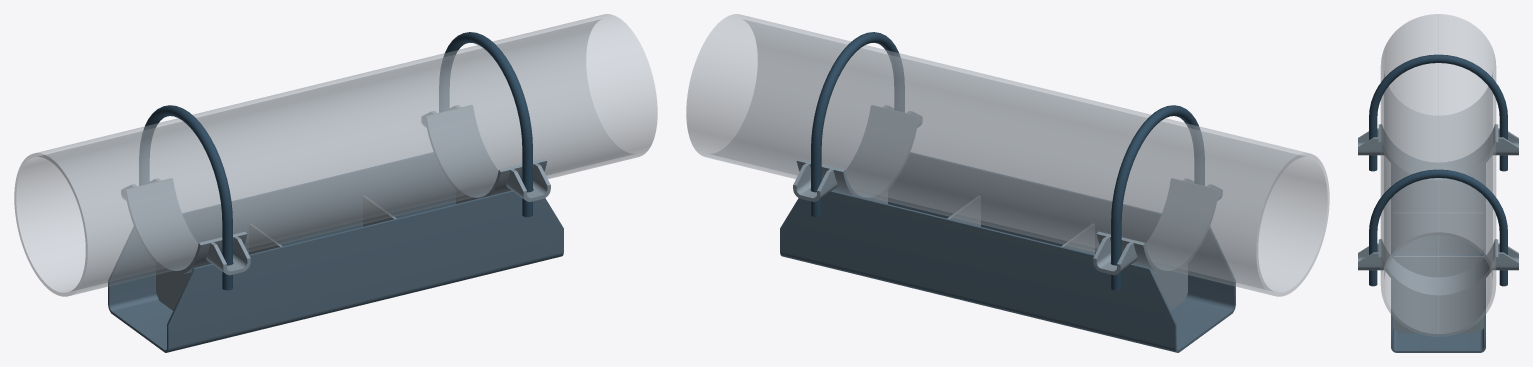
File: TS-734.00.00.02-opora-dn219-L680.glb
3 views of the same model, side by side, from view 1: azimuth 30°, elevation 25°; view 2: azimuth 150°, elevation 25°; view 3: azimuth 270°, elevation 25° (orthographic). The views are drawn at different scales.
Parts seen in each view (by area): view 1: truba, skoba_0, podushka_5, podushka_6, homut_0, homut_1, ushko_8, ushko_10, rebro4_1, rebro5_3, rebro5_4; view 2: truba, skoba_0, podushka_5, podushka_6, homut_0, homut_1, ushko_7, ushko_9, rebro4_1, rebro5_3, rebro5_4; view 3: truba, rebro5_3, rebro4_2, rebro4_1, skoba_0, podushka_6, homut_1, homut_0, podushka_5, rebro5_4, ushko_7, ushko_8 (+2 smaller).
Boxes of the visible parts, bbox=[...] form: truba: bbox=[14, 14, 657, 296]; skoba_0: bbox=[108, 152, 563, 352]; podushka_5: bbox=[125, 178, 247, 274]; podushka_6: bbox=[425, 105, 547, 200]; homut_0: bbox=[139, 105, 232, 290]; homut_1: bbox=[439, 32, 532, 217]; ushko_8: bbox=[206, 236, 250, 275]; ushko_10: bbox=[506, 163, 550, 201]; rebro4_1: bbox=[156, 264, 191, 310]; rebro5_3: bbox=[249, 224, 282, 254]; rebro5_4: bbox=[363, 196, 396, 226]; truba: bbox=[686, 14, 1329, 296]; skoba_0: bbox=[780, 152, 1235, 352]; podushka_5: bbox=[1096, 178, 1218, 274]; podushka_6: bbox=[796, 105, 918, 200]; homut_0: bbox=[1111, 105, 1204, 290]; homut_1: bbox=[811, 32, 904, 217]; ushko_7: bbox=[1093, 236, 1137, 275]; ushko_9: bbox=[793, 163, 837, 201]; rebro4_1: bbox=[1152, 264, 1187, 310]; rebro5_3: bbox=[1061, 224, 1094, 254]; rebro5_4: bbox=[947, 196, 980, 226]; truba: bbox=[1380, 14, 1496, 336]; rebro5_3: bbox=[1393, 212, 1483, 253]; rebro4_2: bbox=[1393, 280, 1483, 333]; rebro4_1: bbox=[1393, 166, 1483, 211]; skoba_0: bbox=[1391, 164, 1485, 352]; podushka_6: bbox=[1378, 239, 1498, 298]; homut_1: bbox=[1369, 169, 1507, 286]; homut_0: bbox=[1369, 54, 1507, 171]; podushka_5: bbox=[1378, 124, 1498, 182]; rebro5_4: bbox=[1393, 256, 1483, 277]; ushko_7: bbox=[1493, 128, 1518, 155]; ushko_8: bbox=[1358, 128, 1383, 155].
Size of the model in its own units: 980 by 345 by 305.
